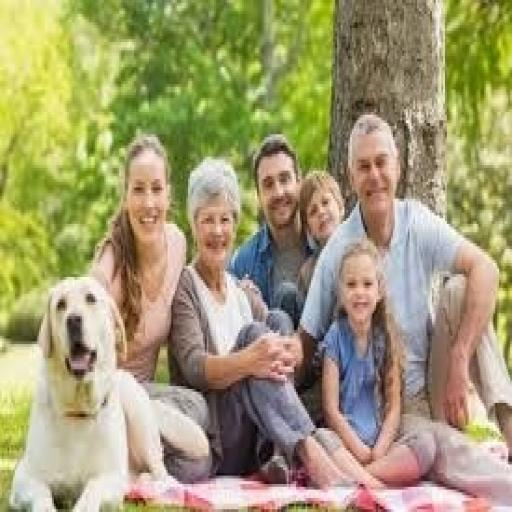sitting: (88, 109, 510, 498), (168, 154, 372, 489), (89, 131, 214, 487), (312, 235, 436, 487)
